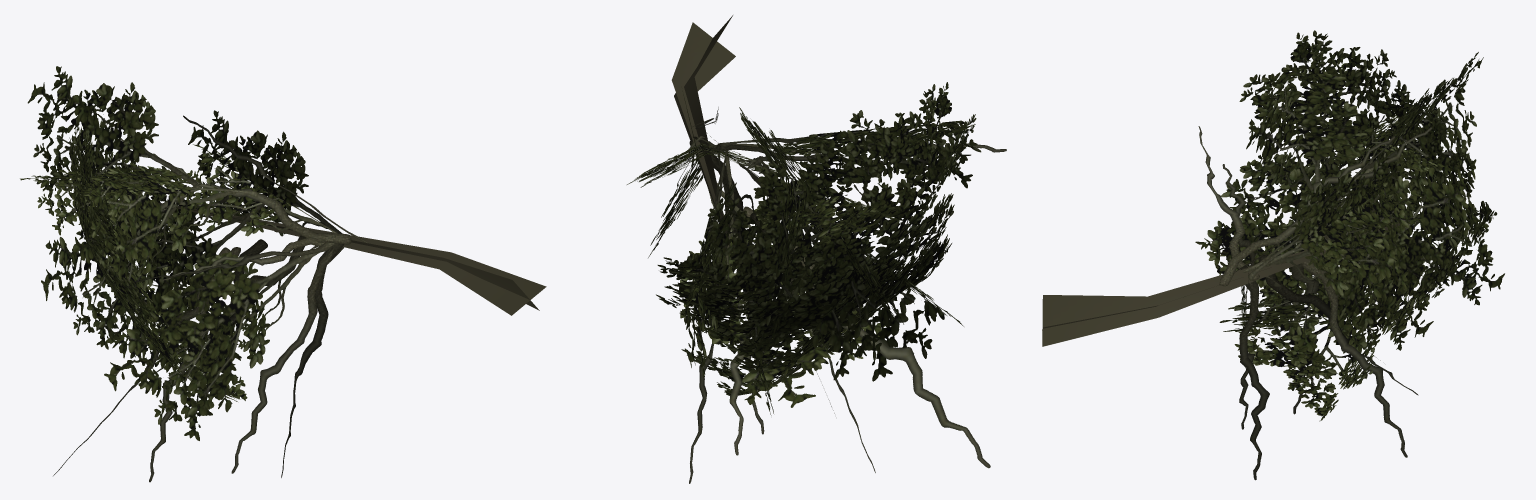
Rendered from Tree_02_h_LOD_01.fbx.
3 renders of one model, left to right at view 1: azimuth 30°, elevation 25°; view 2: azimuth 150°, elevation 25°; view 3: azimuth 270°, elevation 25°, orthographic. The views are drawn at different scales.
Visible parts, largest first — view 1: MEP_Leafs_02_h_LOD_01; view 2: MEP_Leafs_02_h_LOD_01; view 3: MEP_Leafs_02_h_LOD_01.
Part boxes in pixels (box(x1,y1,x2,y2)): MEP_Leafs_02_h_LOD_01: box(20, 66, 546, 482); MEP_Leafs_02_h_LOD_01: box(627, 15, 1006, 483); MEP_Leafs_02_h_LOD_01: box(1042, 30, 1504, 480).
Bounding box in the file's own units: 10.24 × 10.41 × 10.86.
